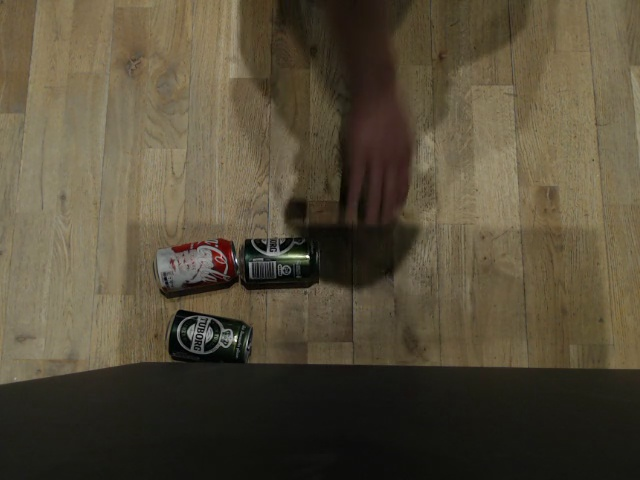beer: (239, 230, 327, 291), (160, 310, 255, 364)
cola: (132, 232, 225, 294)
